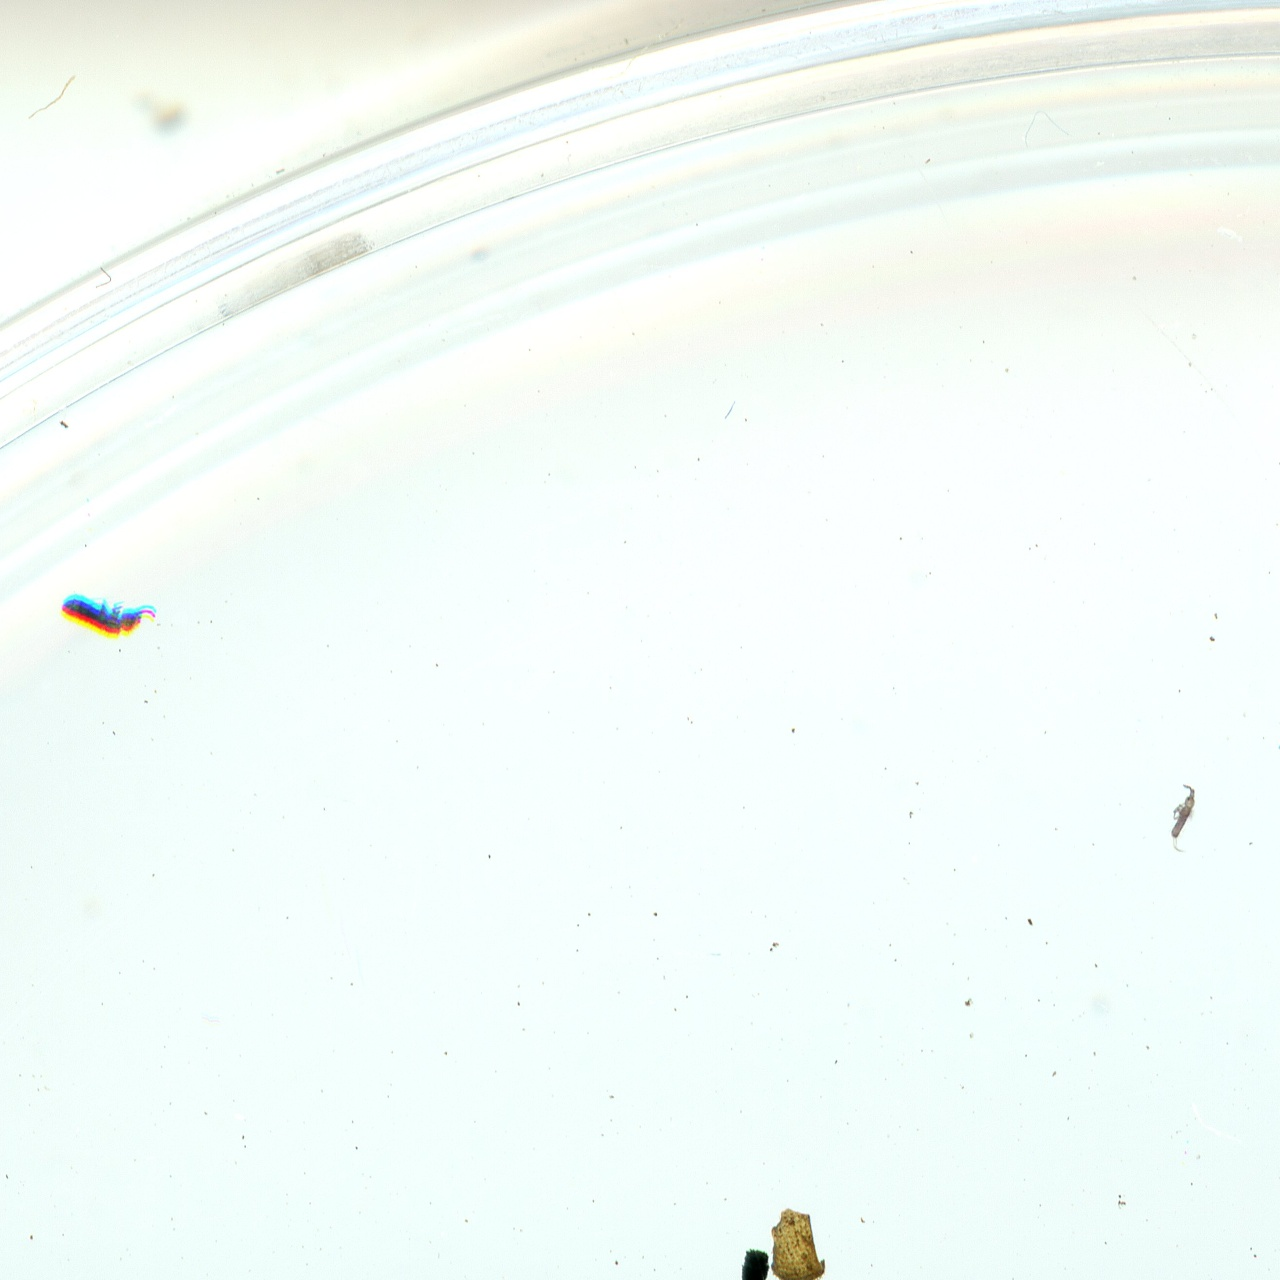arthropod: (52, 584, 159, 644), (1264, 621, 1280, 769), (1169, 782, 1200, 856)
